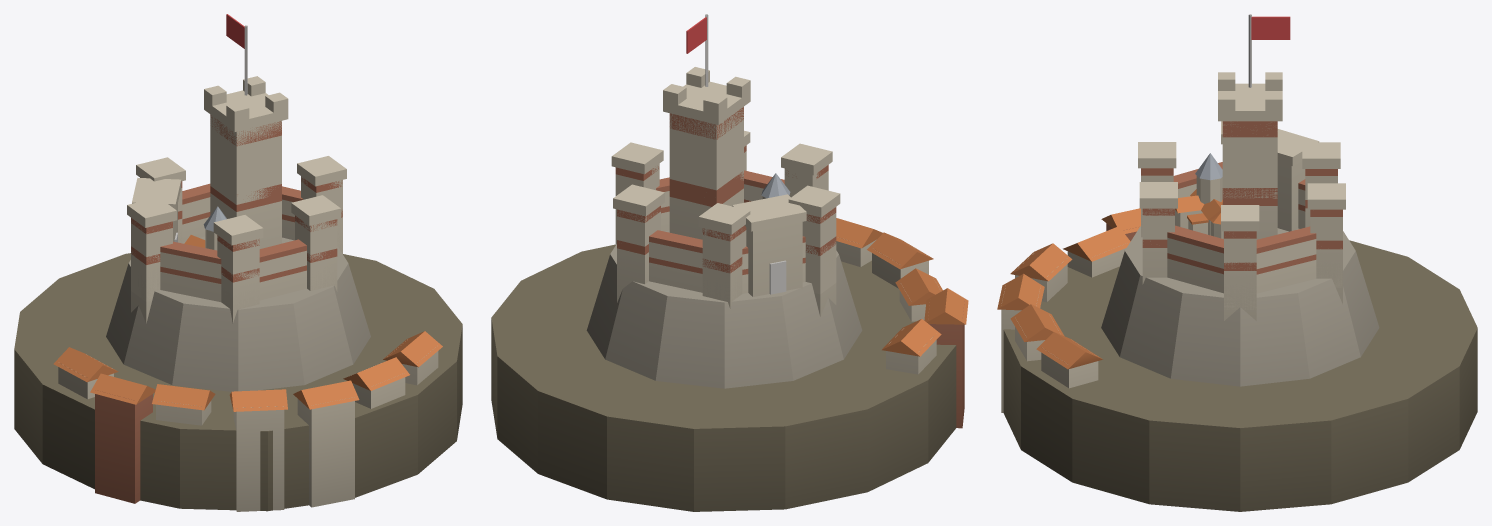
Rendered from castle_byz_b.glb.
3 views of the same model, side by side, from view 1: azimuth 30°, elevation 25°; view 2: azimuth 150°, elevation 25°; view 3: azimuth 270°, elevation 25° (orthographic). The views are drawn at different scales.
Parts seen in each view (by area): view 1: castle_byz_b, Cube.067, Cube.061, Cube.041, Cube.051, Cube.008; view 2: castle_byz_b, Cube.067, Cube.028, Cube.041, Cube.051; view 3: castle_byz_b, Cube.008, Cube.067.
Boxes of the visible parts, bbox=[...] form: castle_byz_b: bbox=[14, 14, 462, 511]; Cube.067: bbox=[210, 114, 281, 204]; Cube.061: bbox=[295, 217, 337, 290]; Cube.041: bbox=[131, 219, 172, 301]; Cube.051: bbox=[217, 236, 259, 318]; Cube.008: bbox=[301, 176, 342, 252]; castle_byz_b: bbox=[491, 14, 968, 511]; Cube.067: bbox=[669, 107, 743, 180]; Cube.028: bbox=[702, 228, 744, 308]; Cube.041: bbox=[803, 207, 836, 294]; Cube.051: bbox=[784, 168, 827, 196]; castle_byz_b: bbox=[997, 14, 1477, 511]; Cube.008: bbox=[1224, 232, 1256, 309]; Cube.067: bbox=[1222, 122, 1277, 198].
Size of the model in its own units: 1.9 by 1.78 by 1.92.
